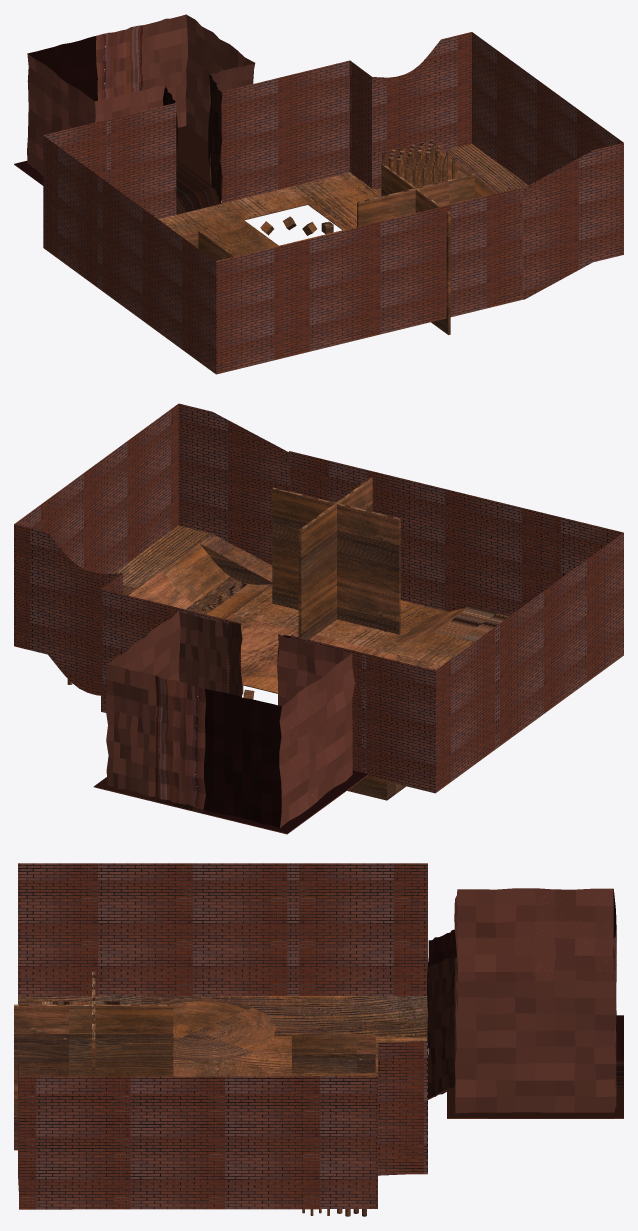
Rendered from Test_map2.glb.
3 renders of one model, top to bottom at view 1: azimuth 30°, elevation 25°; view 2: azimuth 150°, elevation 25°; view 3: azimuth 270°, elevation 25°, orthographic. The views are drawn at different scales.
Parts seen in each view (by area): view 1: Cube.004, Cube.003; view 2: Cube.004, Cube.003; view 3: Cube.004, Cube.003.
Part boxes in pixels (box(x1,y1,x2,y2)): Cube.004: box(43, 32, 623, 374); Cube.003: box(14, 14, 255, 214); Cube.004: box(14, 403, 623, 800); Cube.003: box(93, 610, 368, 834); Cube.004: box(14, 863, 427, 1216); Cube.003: box(427, 888, 623, 1118).
Size of the model in its own units: 213 by 85.33 by 233.
2 materials, 2 textured.
